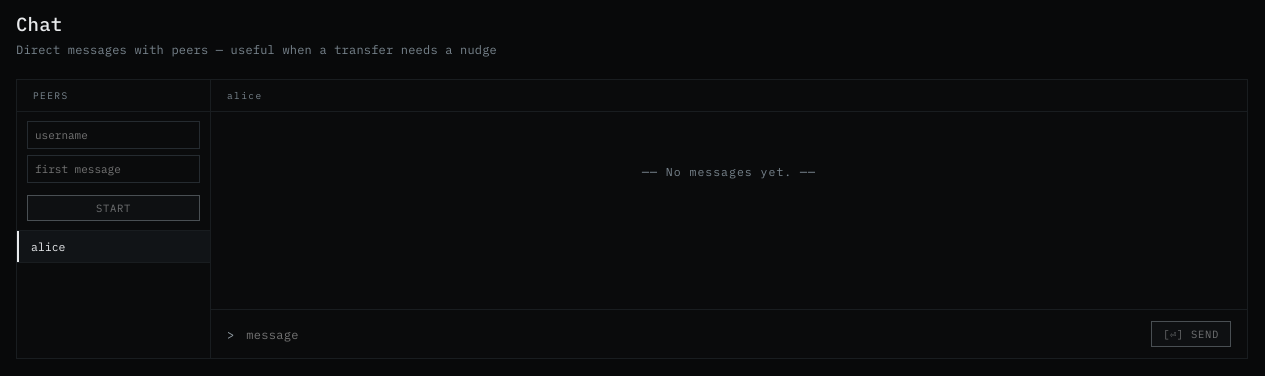
Test: Chat composer › latches into a disabled state on a 503 send response and preserves the draft
Type "hello" into the field labelled "message". click: (693, 334)
box: [244,326,1141,342]
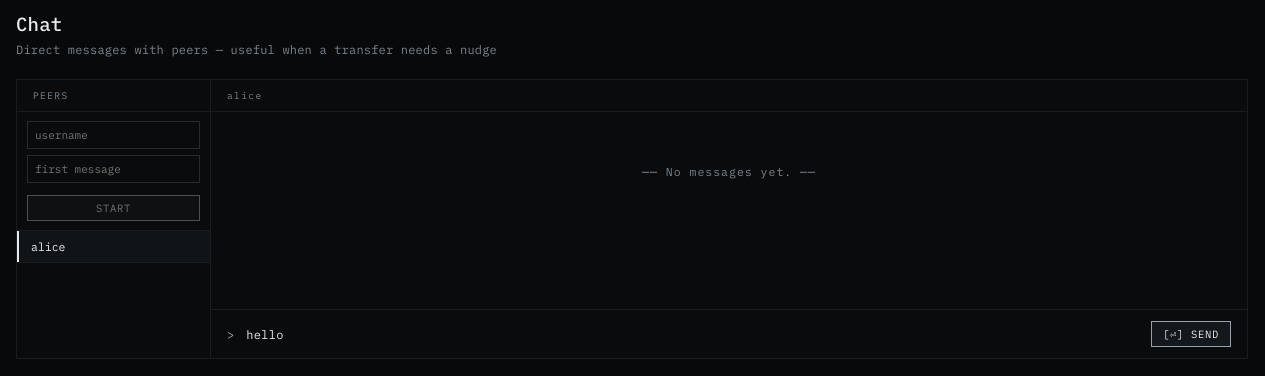
Click the button "[⏎] SEND". click: (1191, 334)
box: [1151,321,1231,347]
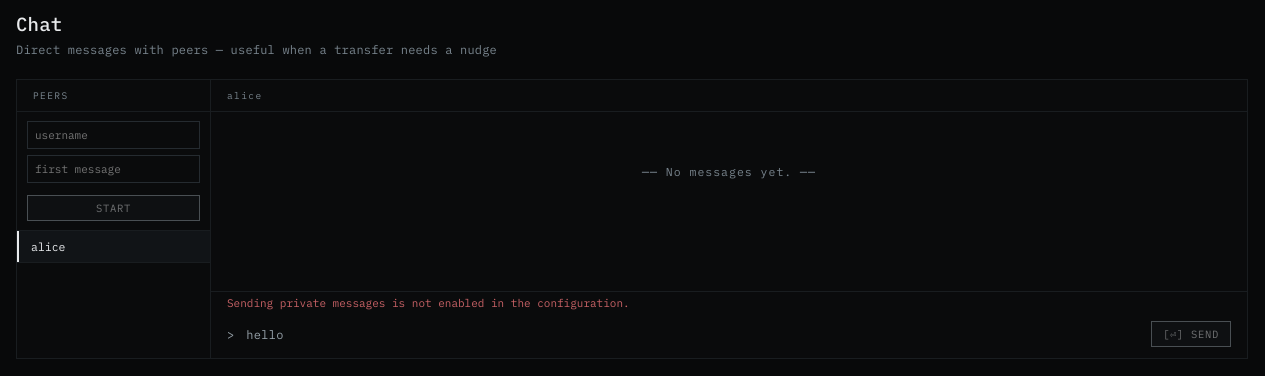
Expected: the text "Sending private messages is not enabled in the configuration." is shown, [227,296,630,310]
Expected: the field named "message" is disabled, [244,326,1141,342]
Expected: the button "[⏎] SEND" is disabled, [1151,321,1231,347]
